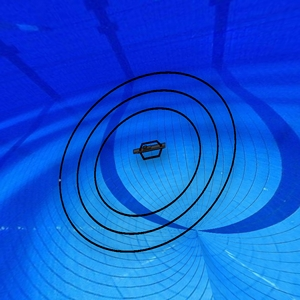circle: (58, 69, 240, 255)
submarine: (132, 135, 169, 169)
